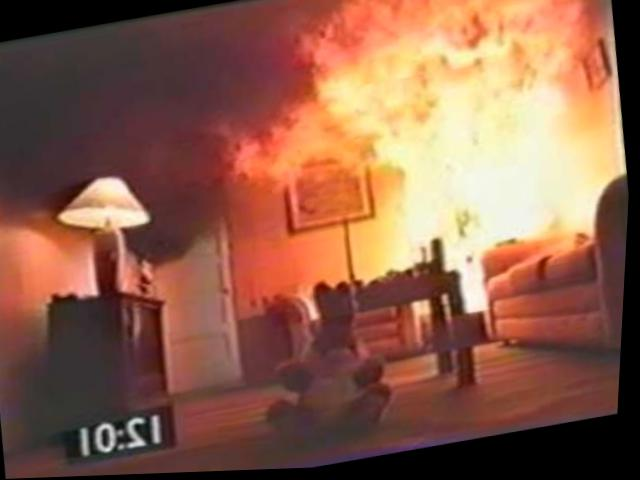fire: (365, 6, 603, 326)
